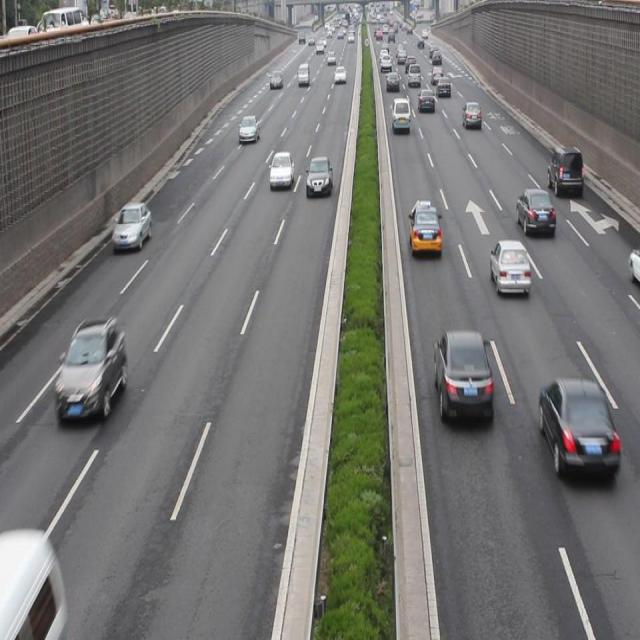car: (537, 374, 619, 482), (53, 317, 127, 423), (432, 329, 492, 424), (488, 240, 529, 298), (546, 142, 582, 199), (515, 188, 554, 240), (112, 201, 152, 249), (408, 204, 441, 257), (268, 150, 293, 189), (306, 156, 330, 196), (238, 114, 259, 146), (461, 100, 481, 130)
truck: (390, 97, 410, 133)
